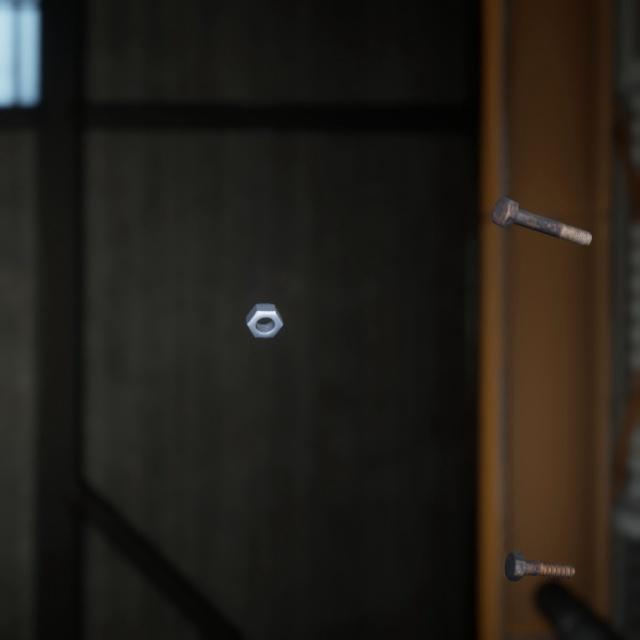bolt: (487, 176, 596, 235), (499, 523, 580, 563)
nut: (241, 280, 288, 324)
